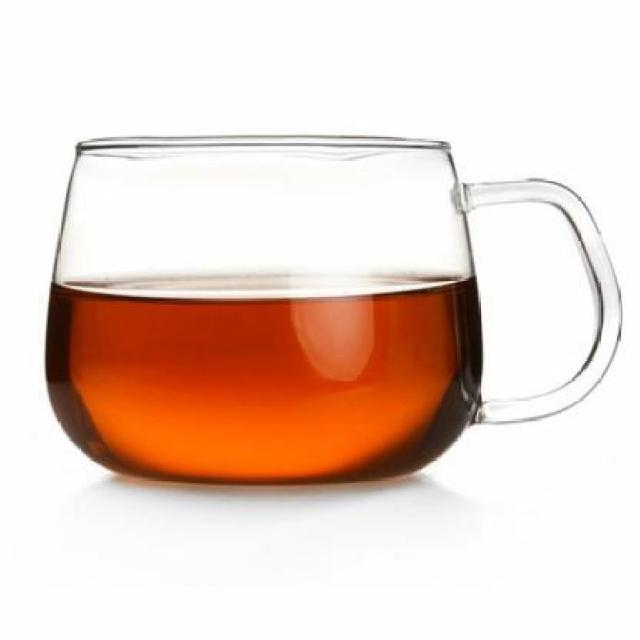cup: (43, 120, 632, 494)
